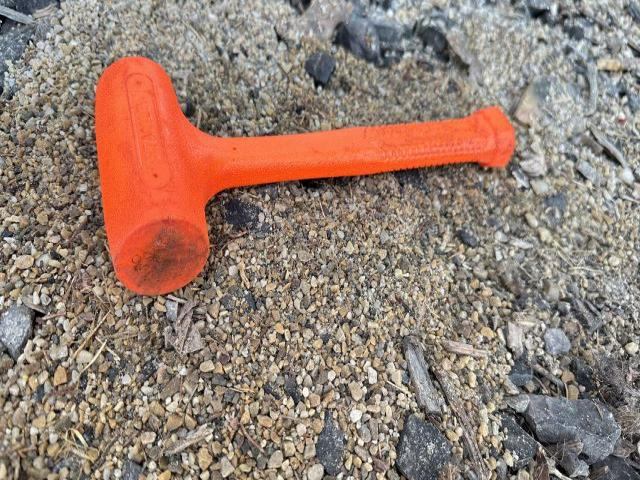hammer: (94, 55, 516, 295)
